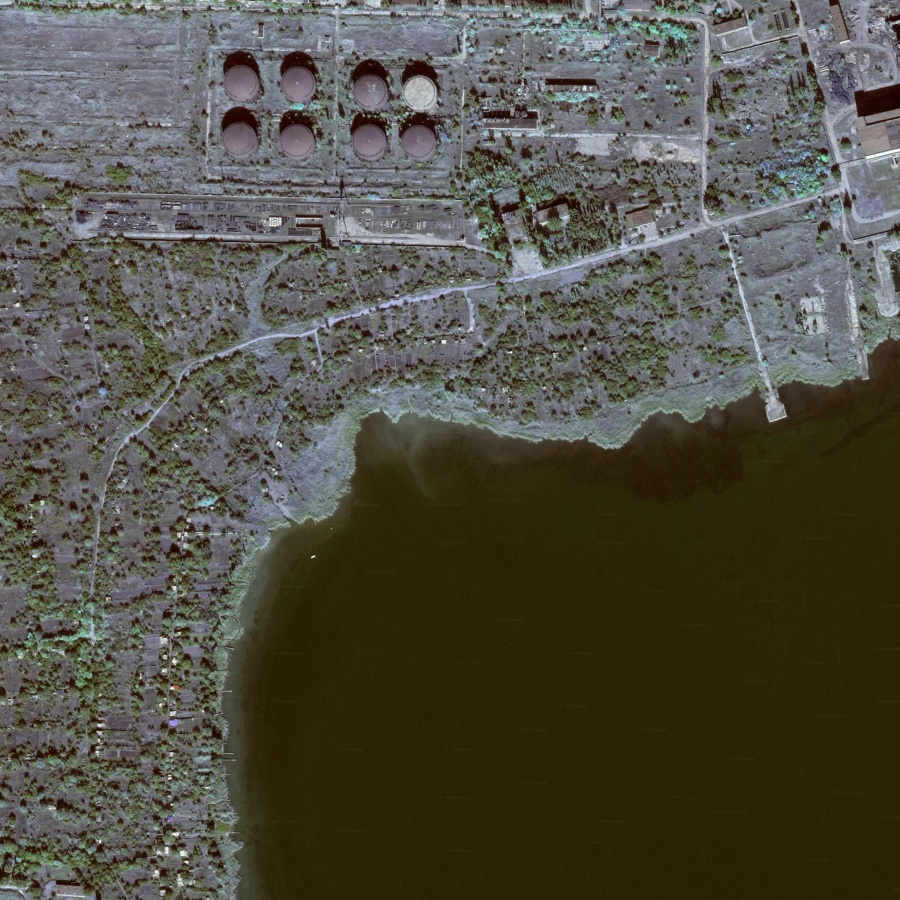PowerPlant: (188, 11, 458, 189)
